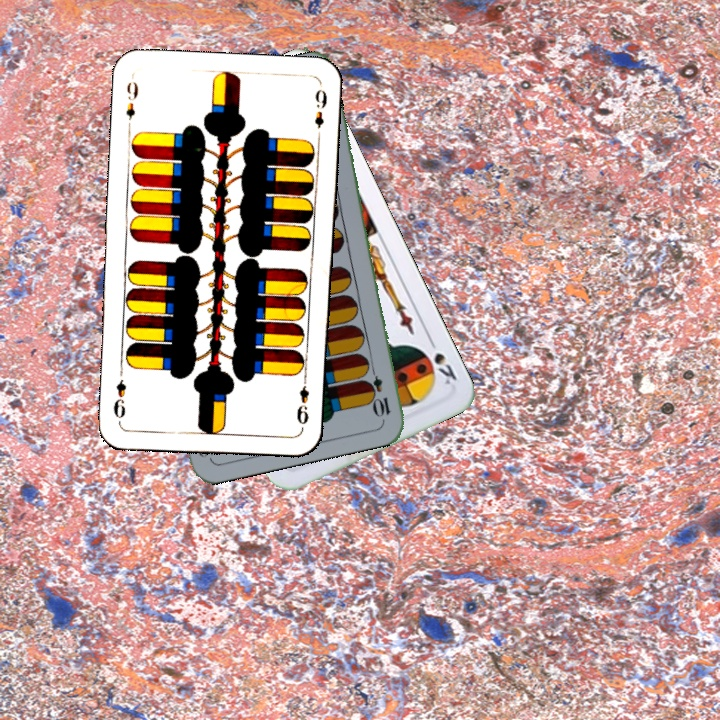E10: (364, 361, 393, 420)
E9: (292, 372, 311, 431), (122, 78, 141, 133)
SK: (424, 333, 460, 388)
